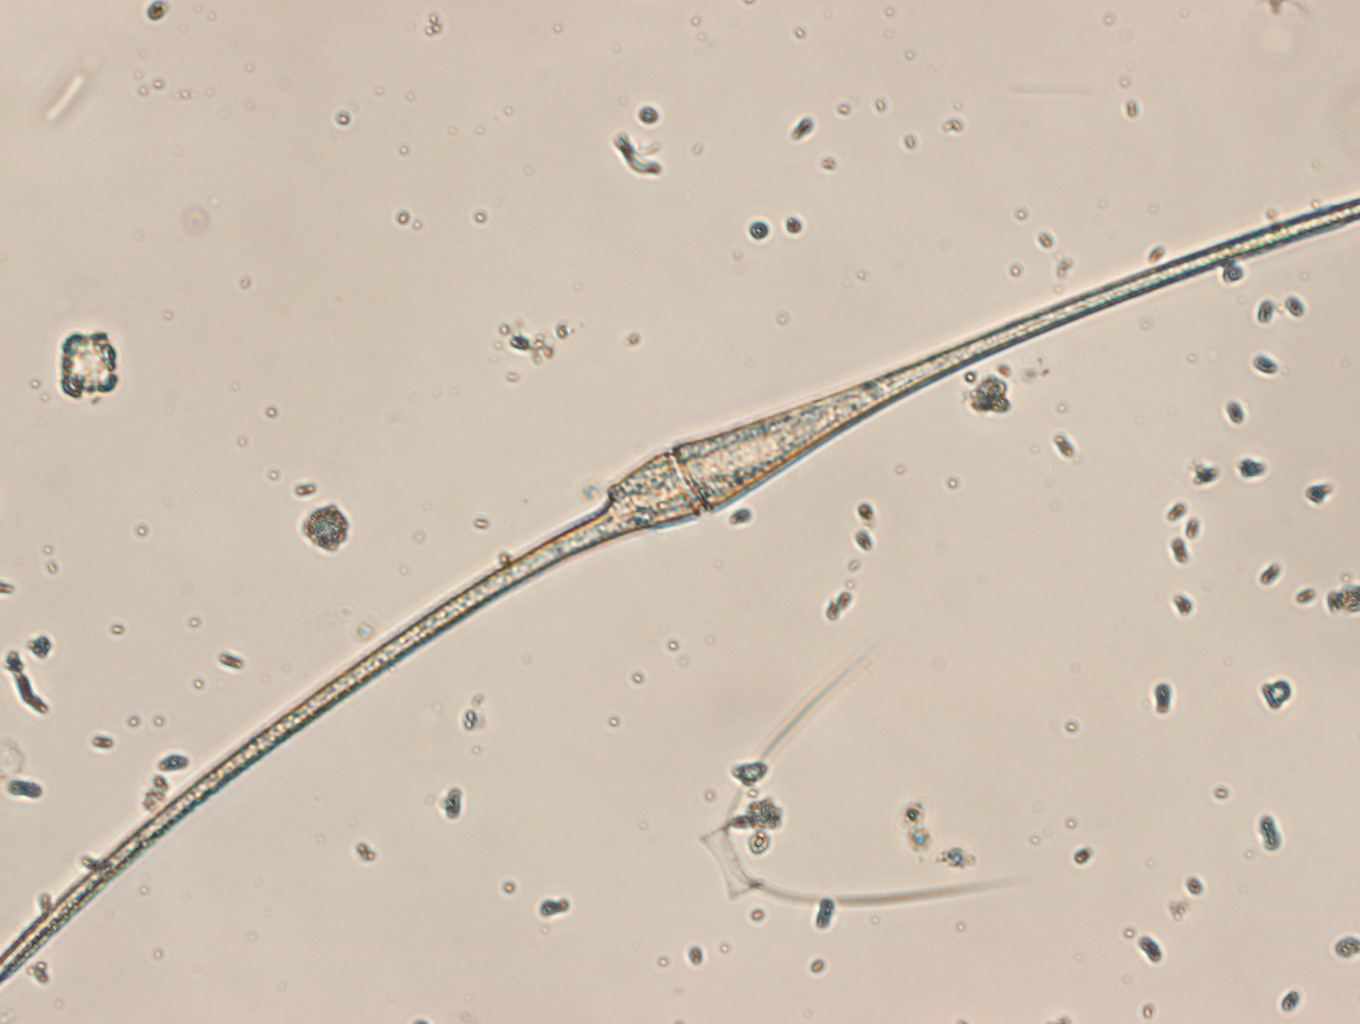ceratium fusus: (1, 196, 1360, 979)
chaetoceros: (698, 648, 1029, 906)
